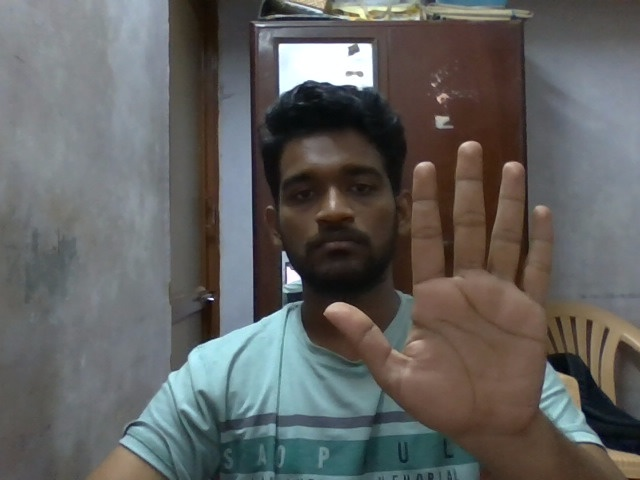Hello: (318, 136, 565, 447), (324, 297, 562, 436), (404, 142, 560, 298)
